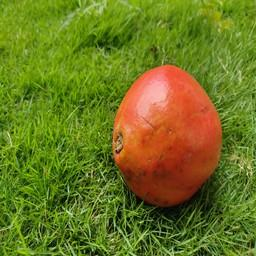pomegranate: (112, 64, 221, 209)
